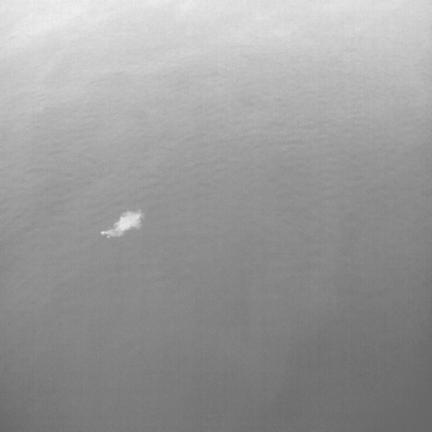flukeprints: (101, 210, 142, 237)
